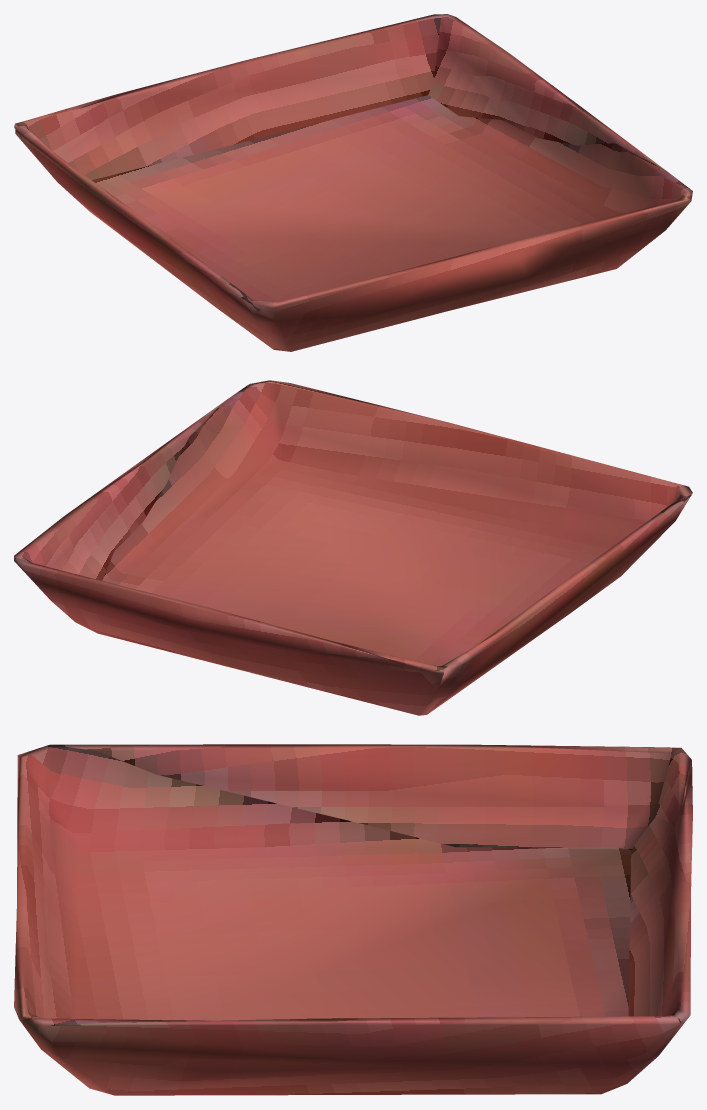
The model's file is Ecoforms_Plant_Saucer_SQ8COR-low.glb.
3 views of the same model, one above another, from view 1: azimuth 30°, elevation 25°; view 2: azimuth 150°, elevation 25°; view 3: azimuth 270°, elevation 25° (orthographic). The views are drawn at different scales.
Parts seen in each view (by area): view 1: Ecoforms_Plant_Saucer_SQ8COR; view 2: Ecoforms_Plant_Saucer_SQ8COR; view 3: Ecoforms_Plant_Saucer_SQ8COR.
Boxes of the visible parts, x1,y1,x2,y2 form: Ecoforms_Plant_Saucer_SQ8COR: (14,14,692,351); Ecoforms_Plant_Saucer_SQ8COR: (14,380,692,715); Ecoforms_Plant_Saucer_SQ8COR: (14,744,692,1095).
Size of the model in its own units: 0.1805 by 0.0326 by 0.1802.
1 material, 1 textured.
